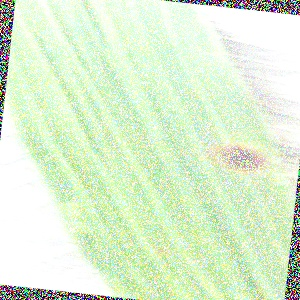Bacterial_Leaf_Blight: (205, 128, 285, 188)
